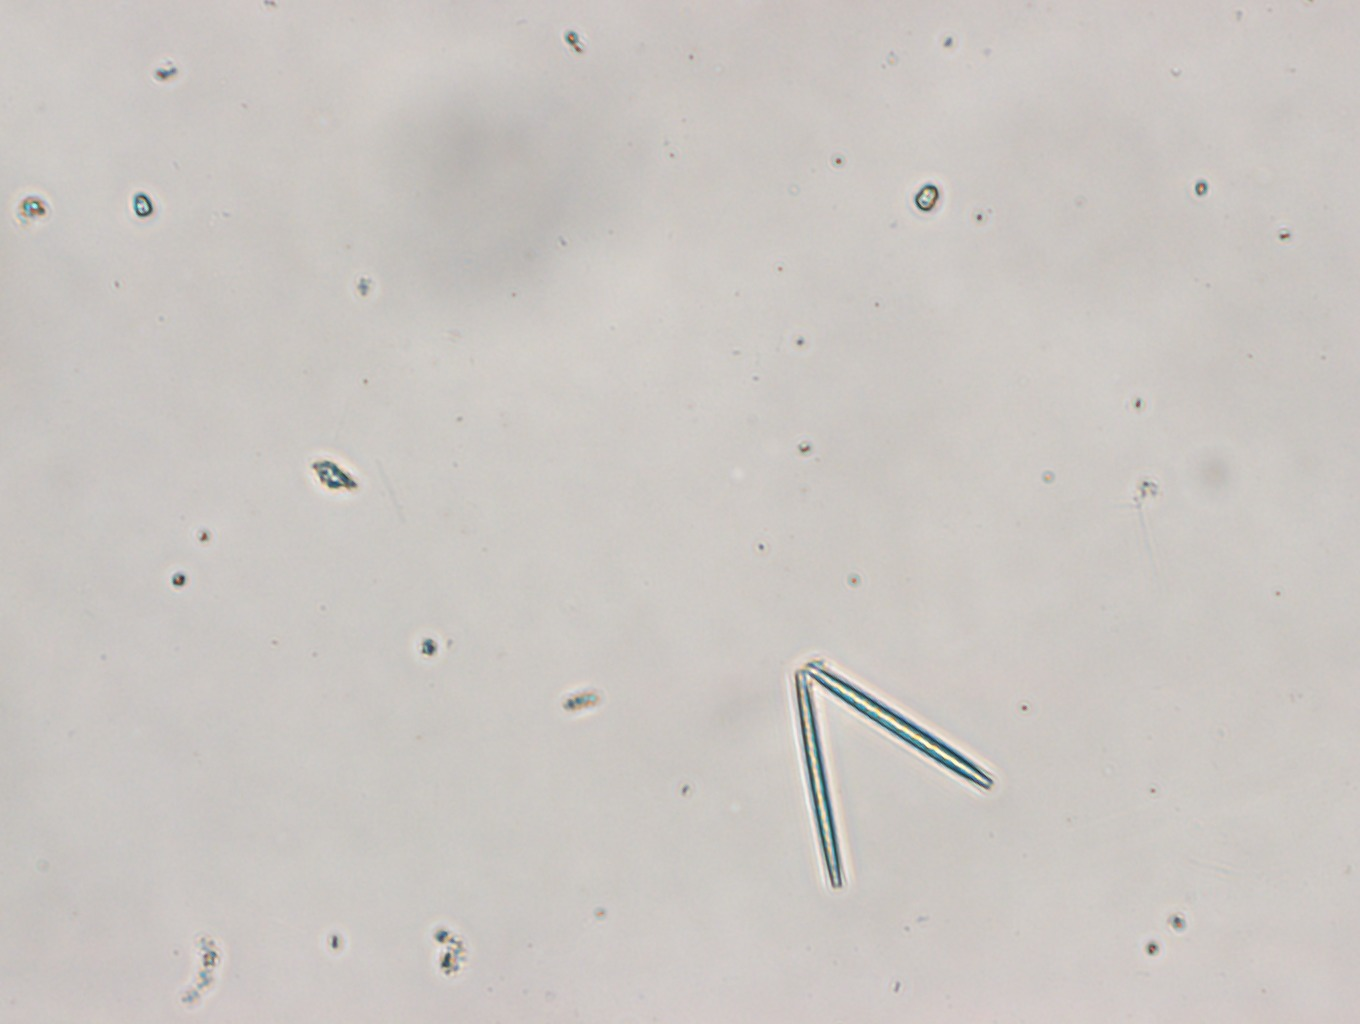thalassionema nitzschioides: (794, 657, 993, 887)
